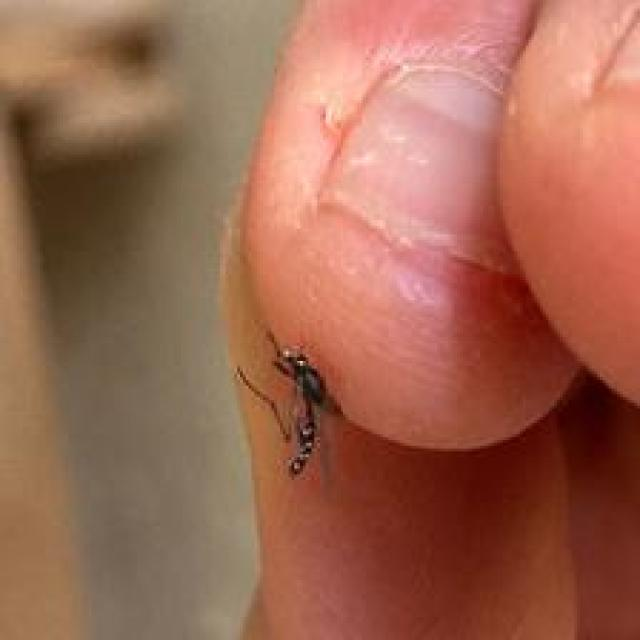Aedes albopictus: (231, 327, 343, 479)
